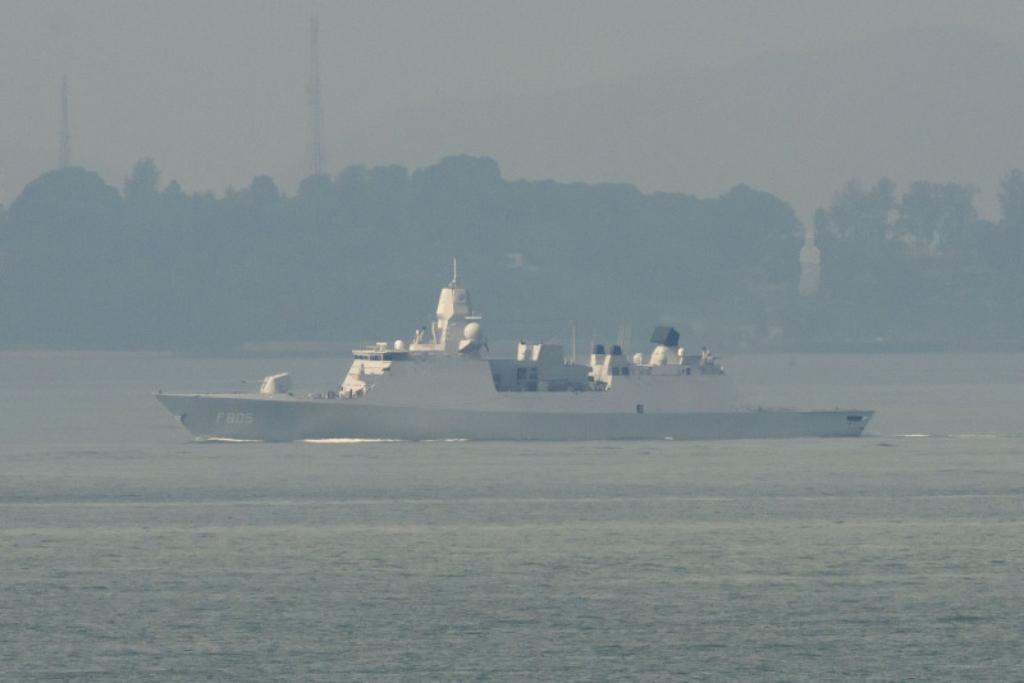Warship: (152, 248, 878, 446)
